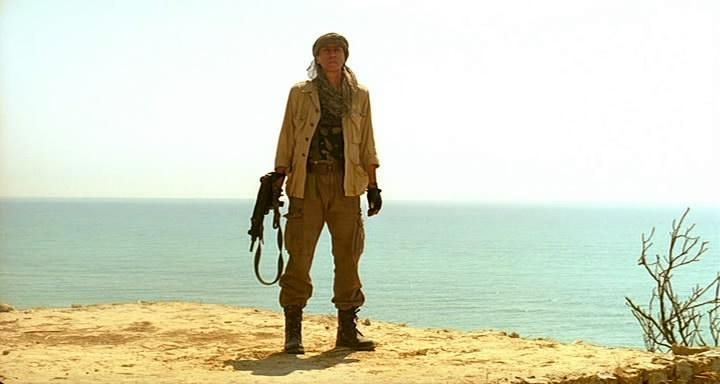gun: (245, 166, 292, 271)
